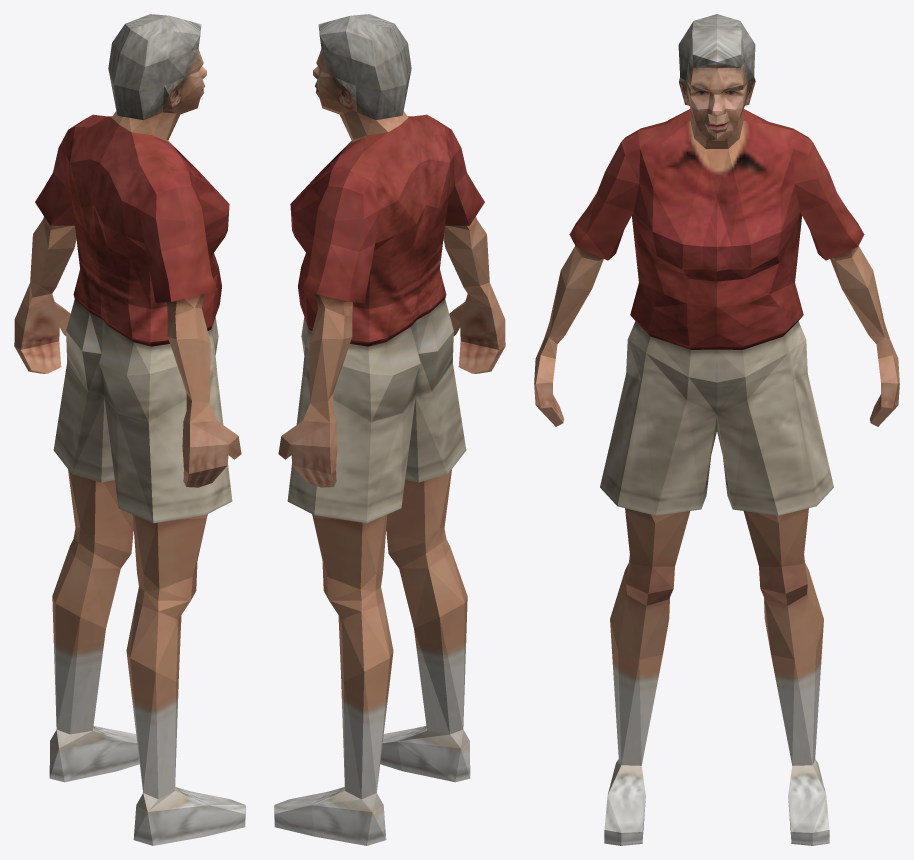
File: wfori.obj
The picture shows the model from 3 angles, left to right: view 1: azimuth 30°, elevation 25°; view 2: azimuth 150°, elevation 25°; view 3: azimuth 270°, elevation 25°; orthographic projection. The views are drawn at different scales.
Visible parts, largest first — view 1: _Pelvis; view 2: _Pelvis; view 3: _Pelvis.
Boxes of the visible parts, x1,y1,x2,y2 form: _Pelvis: (14, 14, 245, 845); _Pelvis: (274, 14, 505, 845); _Pelvis: (534, 14, 899, 845).
Bounding box in the file's own units: 0.2817 × 1.67 × 0.6883.
Materials: 1 (1 with a texture image).
